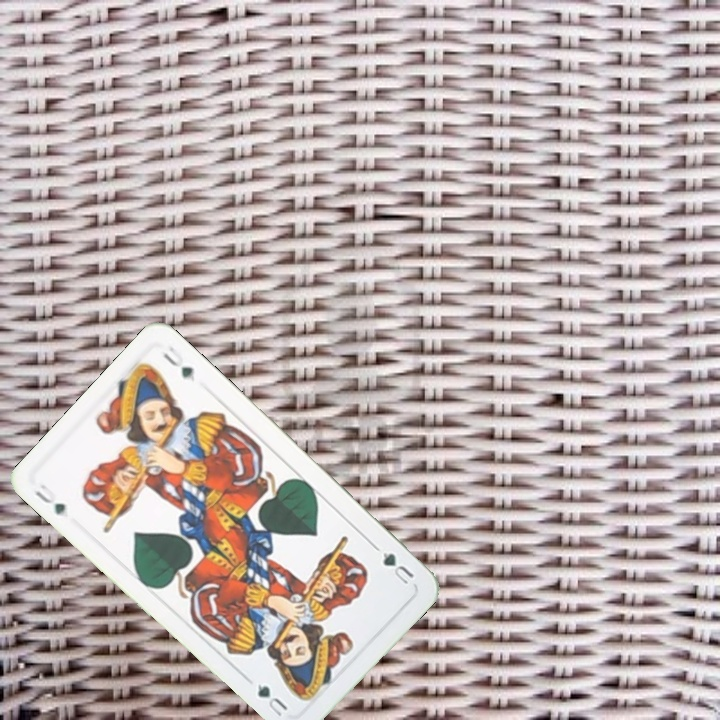GU: (30, 480, 69, 520), (378, 548, 417, 587)
